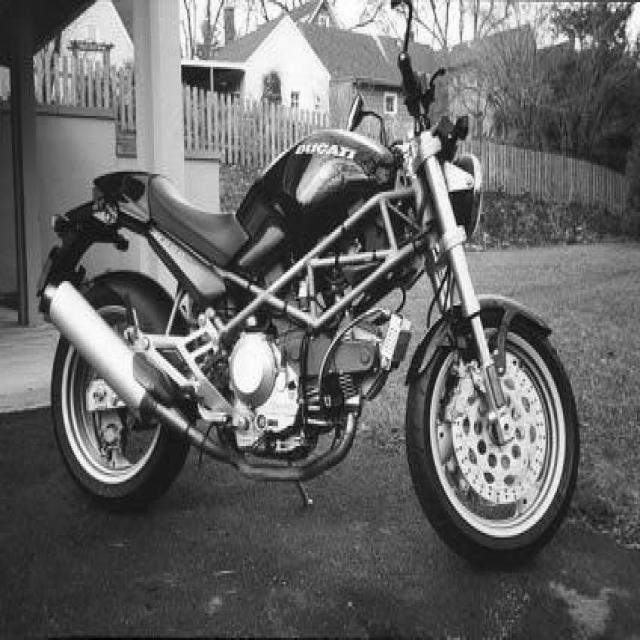Motorcycle: (38, 52, 581, 566)
